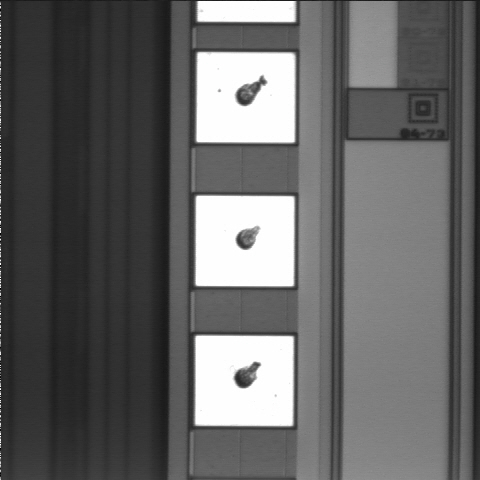pad: (196, 52, 295, 143), (196, 196, 294, 286), (195, 336, 293, 426)
